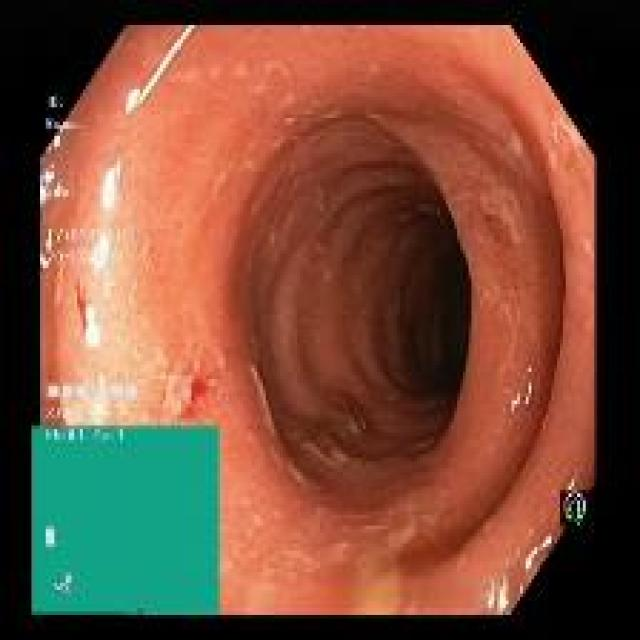ulcerative-colitis: (41, 27, 595, 615)
